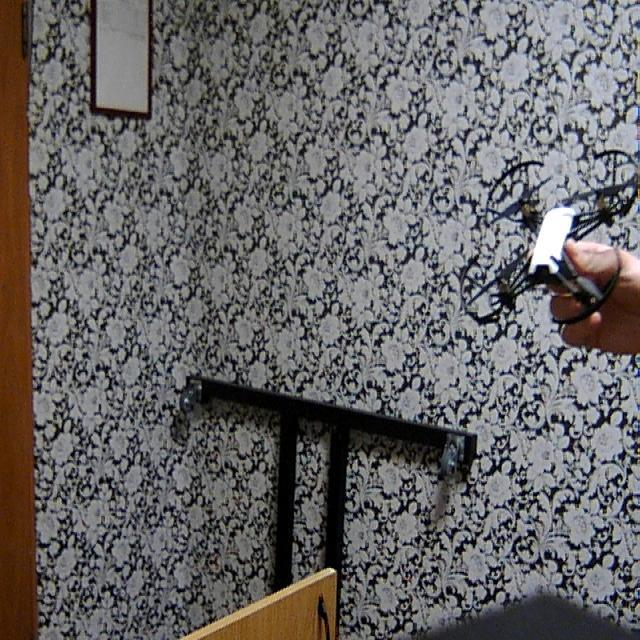drone: (450, 146, 640, 346)
